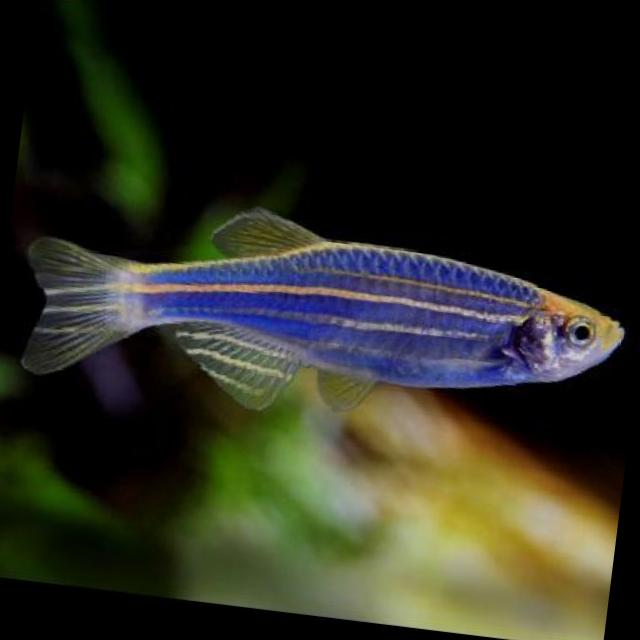ZebraFish: (8, 171, 634, 451)
